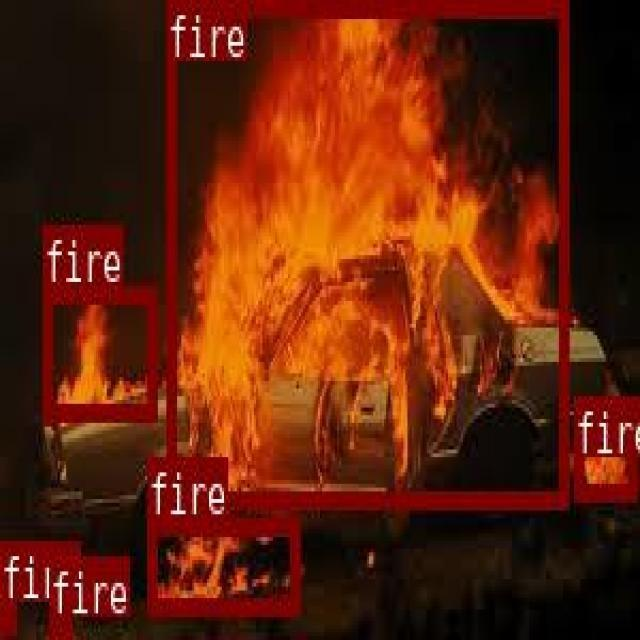fire: (166, 0, 567, 507), (42, 284, 156, 419), (147, 516, 297, 612), (574, 395, 634, 498), (0, 598, 15, 629), (48, 617, 69, 633)
